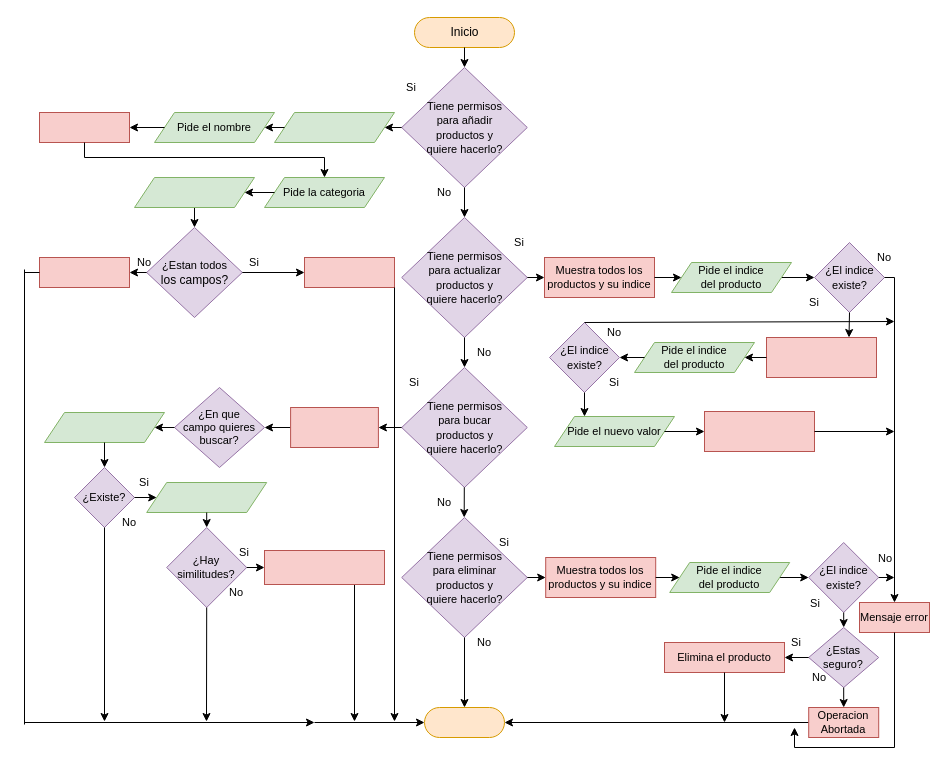
This 947x773 diagram has some shape labels left out. Each missing label, with the centre of its shape:
"Actualiza el producto" belongs at (759,431).
"Agrega el producto" belongs at (349,272).
"Fin" belongs at (464,722).
"Introduce el indice de campo" belongs at (104,427).
"Lista las categorias" belongs at (84,127).
"Mensaje de error" belongs at (84,272).
"Muestra las similitudes" belongs at (324,567).
"Muestra los campos a buscar" belongs at (334,427).
"Muestra todos los campos y su indice" belongs at (821,357).
"Pide el codigo" belongs at (334,127).
"Pide la fecha" belongs at (194,192).
"Pone el valor a buscar" belongs at (206,497).
